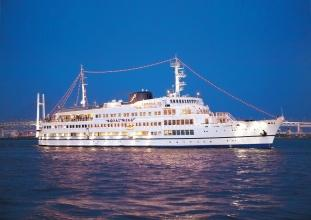youlun: (31, 68, 282, 147)
